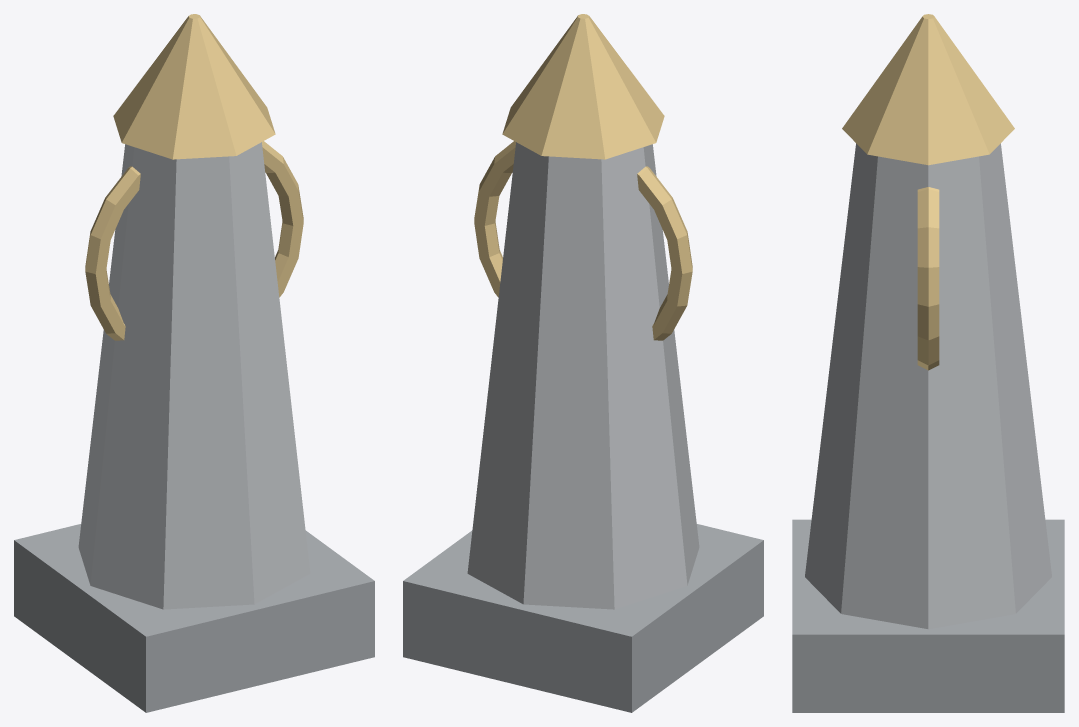
File: beacon.glb
The picture shows the model from 3 angles, left to right: view 1: azimuth 30°, elevation 25°; view 2: azimuth 150°, elevation 25°; view 3: azimuth 270°, elevation 25°; orthographic projection. The views are drawn at different scales.
Visible parts, largest first — view 1: beacon; view 2: beacon; view 3: beacon.
Part boxes in pixels (bbox=[...]): beacon: bbox=[14, 14, 374, 712]; beacon: bbox=[403, 14, 763, 712]; beacon: bbox=[792, 14, 1064, 712].
Size of the model in its own units: 2.2 by 5.7 by 2.2.
